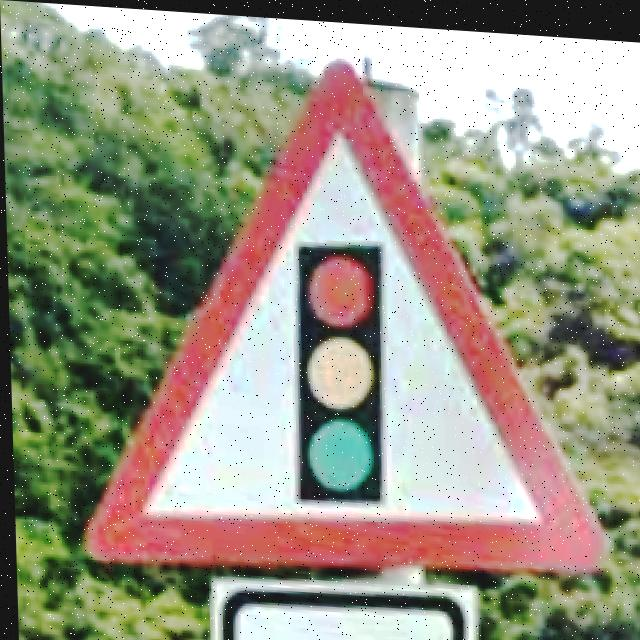signalahead: (85, 54, 603, 567)
